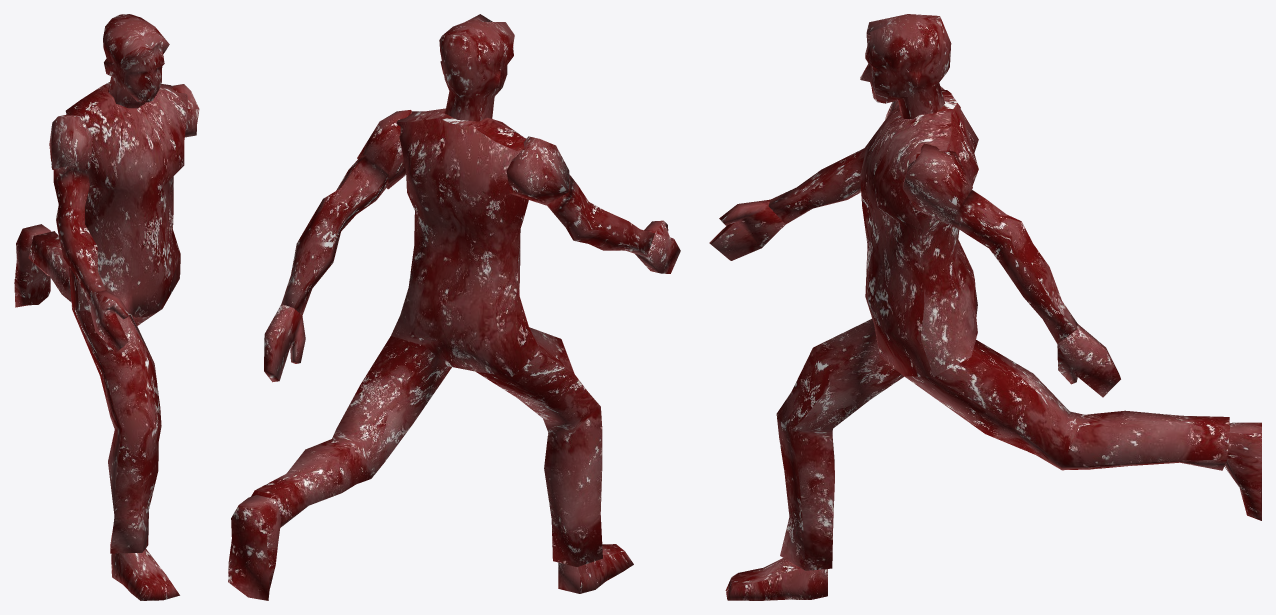
Rendered from walk1.fbx.
3 renders of one model, left to right at view 1: azimuth 30°, elevation 25°; view 2: azimuth 150°, elevation 25°; view 3: azimuth 270°, elevation 25°, orthographic. The views are drawn at different scales.
Visible parts, largest first — view 1: walk1; view 2: walk1; view 3: walk1.
Boxes of the visible parts, x1,y1,x2,y2 form: walk1: (14,14,199,600); walk1: (228,14,680,600); walk1: (709,14,1261,600).
Bounding box in the file's own units: 74.27 × 179 × 149.
